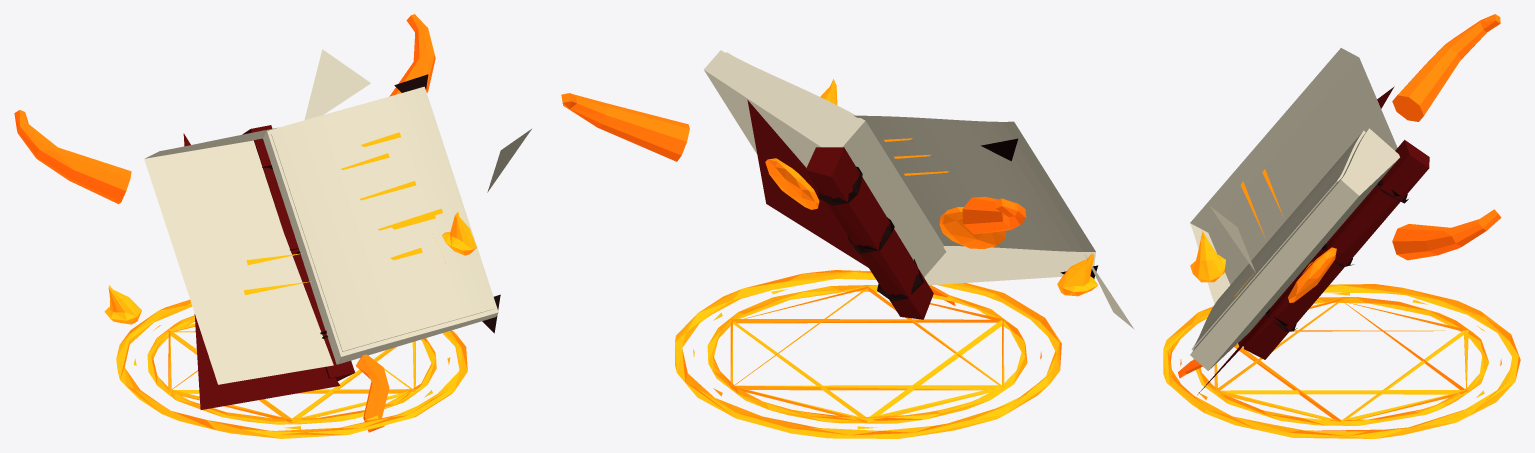
The model's file is tome_4.glb.
3 renders of one model, left to right at view 1: azimuth 30°, elevation 25°; view 2: azimuth 150°, elevation 25°; view 3: azimuth 270°, elevation 25°, orthographic. The views are drawn at different scales.
Visible parts, largest first — view 1: Page__022, CoverL__002, CoverR__011, Circle__033, CoverL__001, Book__059, Circle__034, Book__026, Orbit__056, Book__060, Book__032, Circle__035 (+3 smaller); view 2: CoverL__002, CoverR__011, Circle__033, Book__026, Circle__034, CoverR__010, Book__060, Circle__035, Book__059, Circle__040, CoverL__030, CoverR__031 (+5 smaller); view 3: CoverL__002, CoverR__011, Book__026, Circle__033, Page__022, Circle__034, Book__059, Book__060, Circle__035, Circle__041, Orbit__057, CoverR__031 (+6 smaller).
Boxes of the visible parts, x1=… form: Page__022: x1=271, y1=91, x2=494, y2=351; CoverL__002: x1=144, y1=127, x2=333, y2=384; CoverR__011: x1=263, y1=86, x2=498, y2=364; Circle__033: x1=116, y1=299, x2=467, y2=438; CoverL__001: x1=183, y1=133, x2=340, y2=409; Book__059: x1=14, y1=110, x2=131, y2=204; Circle__034: x1=147, y1=315, x2=436, y2=424; Book__026: x1=242, y1=125, x2=355, y2=380; Orbit__056: x1=304, y1=49, x2=370, y2=120; Book__060: x1=389, y1=14, x2=435, y2=96; Book__032: x1=356, y1=354, x2=389, y2=432; Circle__035: x1=168, y1=323, x2=415, y2=423; CoverL__002: x1=854, y1=115, x2=1095, y2=285; CoverR__011: x1=704, y1=50, x2=946, y2=277; Circle__033: x1=675, y1=270, x2=1061, y2=438; Book__026: x1=806, y1=147, x2=933, y2=319; Circle__034: x1=707, y1=285, x2=1027, y2=423; CoverR__010: x1=747, y1=100, x2=868, y2=267; Book__060: x1=561, y1=93, x2=689, y2=161; Circle__035: x1=730, y1=286, x2=1004, y2=422; Book__059: x1=962, y1=196, x2=1026, y2=234; Circle__040: x1=731, y1=385, x2=1003, y2=390; CoverL__030: x1=939, y1=207, x2=1005, y2=248; CoverR__031: x1=765, y1=158, x2=819, y2=209; CoverL__002: x1=1190, y1=48, x2=1397, y2=303; CoverR__011: x1=1190, y1=128, x2=1399, y2=370; Book__026: x1=1242, y1=140, x2=1429, y2=359; Circle__033: x1=1163, y1=284, x2=1520, y2=438; Page__022: x1=1191, y1=130, x2=1365, y2=349; Circle__034: x1=1193, y1=297, x2=1488, y2=425; Book__059: x1=1392, y1=14, x2=1500, y2=121; Book__060: x1=1392, y1=209, x2=1501, y2=260; Circle__035: x1=1214, y1=298, x2=1468, y2=423; Circle__041: x1=1215, y1=390, x2=1466, y2=394; Orbit__057: x1=1190, y1=231, x2=1225, y2=282; CoverR__031: x1=1288, y1=247, x2=1336, y2=302.
Size of the model in its own units: 0.3297 by 0.1905 by 0.2346.
